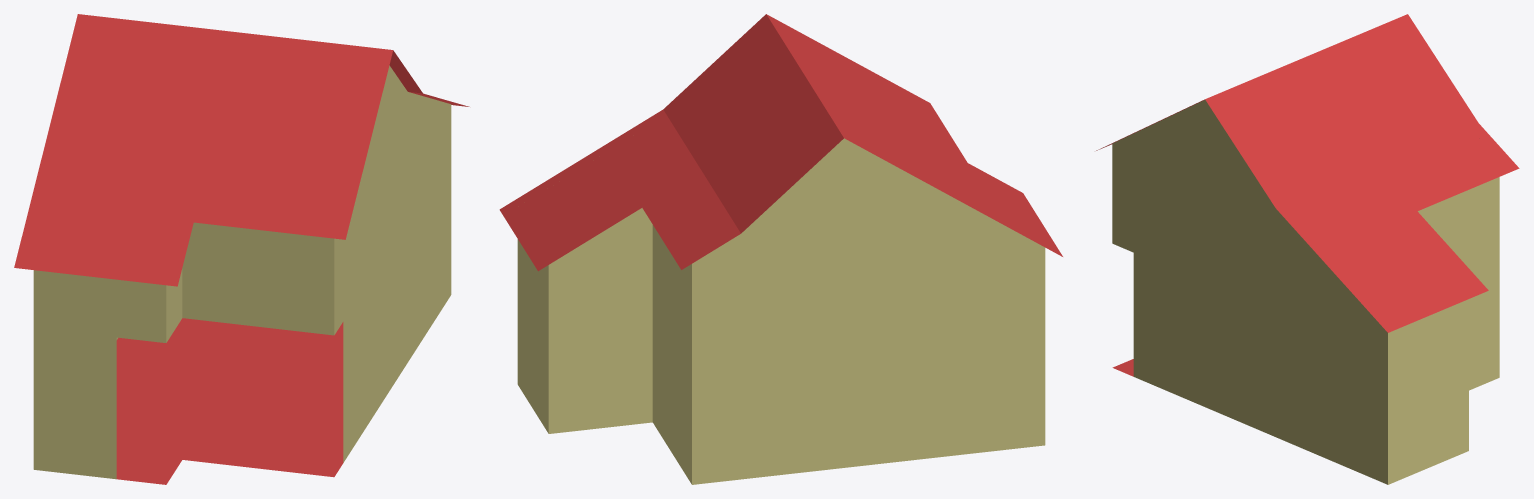
The picture shows the model from 3 angles, left to right: view 1: azimuth 30°, elevation 25°; view 2: azimuth 150°, elevation 25°; view 3: azimuth 270°, elevation 25°; orthographic projection. The views are drawn at different scales.
Size of the model in its own units: 19.12 by 15.2 by 12.42.
